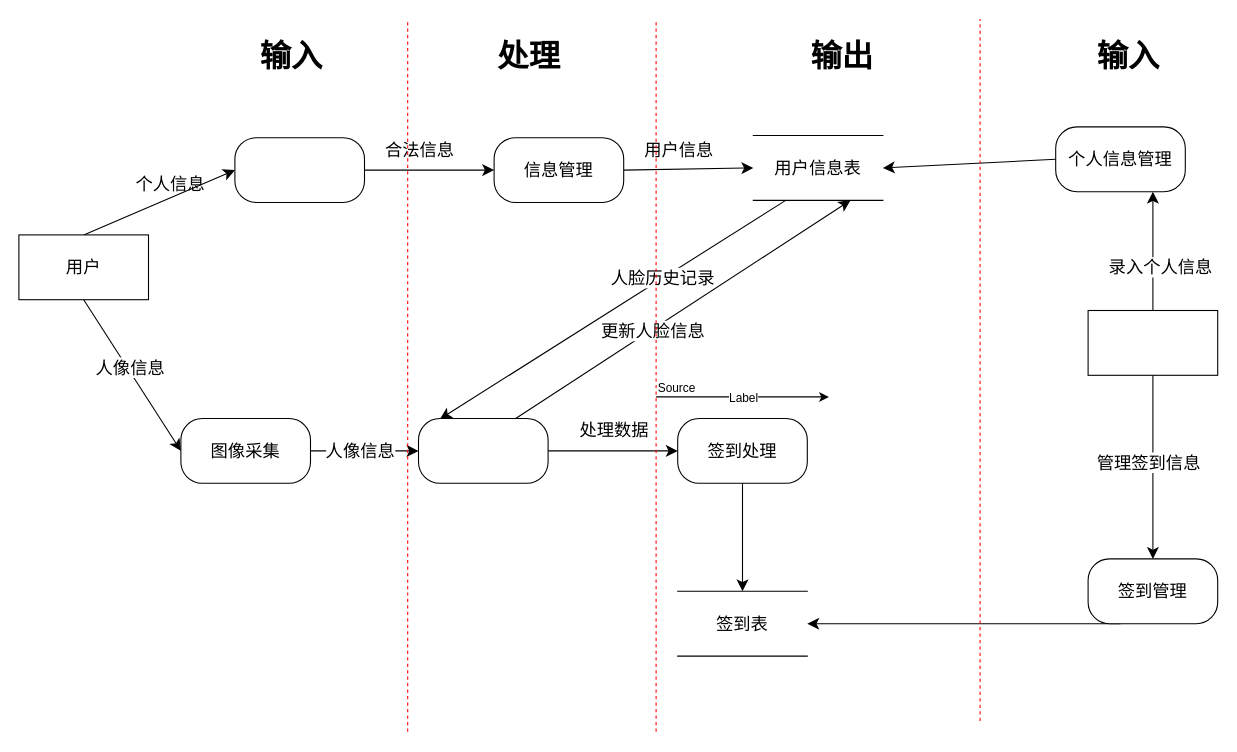
Image size: 1237x752. Some labels were removed from this diagram. The centre of each missing label's shape, as x and y in pixels:
1.信息处理: point 299,169
图像处理: point 482,450
管理员: point 1152,342
